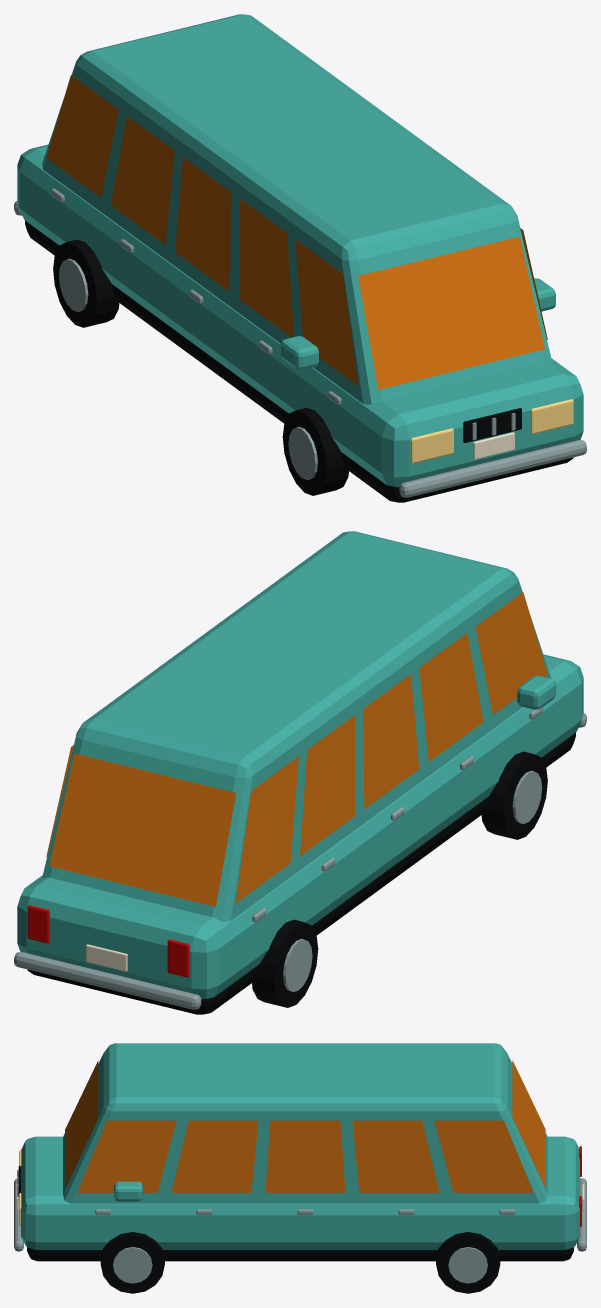
Rendered from HNP_Minibus_v003.fbx.
3 views of the same model, one above another, from view 1: azimuth 30°, elevation 25°; view 2: azimuth 150°, elevation 25°; view 3: azimuth 270°, elevation 25° (orthographic). The views are drawn at different scales.
Visible parts, largest first — view 1: HNP_Minibus_v003_HNP3_Body, HNP_Minibus_v003_HNP3_Atlas, Wheel_-1_2.04, Wheel_-1_-2.04, WheelRim, WheelRim.001; view 2: HNP_Minibus_v003_HNP3_Body, HNP_Minibus_v003_HNP3_Atlas, Wheel_-1_-2.04, Wheel_-1_2.04, WheelRim.001, WheelRim; view 3: HNP_Minibus_v003_HNP3_Body, HNP_Minibus_v003_HNP3_Atlas, Wheel_1_-2.04, Wheel_1_2.04, WheelRim.002, WheelRim.003.
Boxes of the visible parts, x1,y1,x2,y2 form: HNP_Minibus_v003_HNP3_Body: (17,14,583,487); HNP_Minibus_v003_HNP3_Atlas: (14,75,586,502); Wheel_-1_2.04: (282,407,348,495); Wheel_-1_-2.04: (53,239,119,327); WheelRim: (59,258,88,311); WheelRim.001: (288,426,317,479); HNP_Minibus_v003_HNP3_Body: (17,531,583,999); HNP_Minibus_v003_HNP3_Atlas: (14,592,586,1014); Wheel_-1_-2.04: (252,919,318,1007); Wheel_-1_2.04: (481,751,547,839); WheelRim.001: (512,770,541,823); WheelRim: (283,939,312,991); HNP_Minibus_v003_HNP3_Body: (21,1043,579,1249); HNP_Minibus_v003_HNP3_Atlas: (14,1060,586,1261); Wheel_1_-2.04: (436,1232,500,1293); Wheel_1_2.04: (100,1232,164,1293); WheelRim.002: (448,1247,487,1283); WheelRim.003: (113,1247,152,1283).
Bounding box in the file's own units: 267 × 247 × 697.
Materials: 2 (1 with a texture image).
